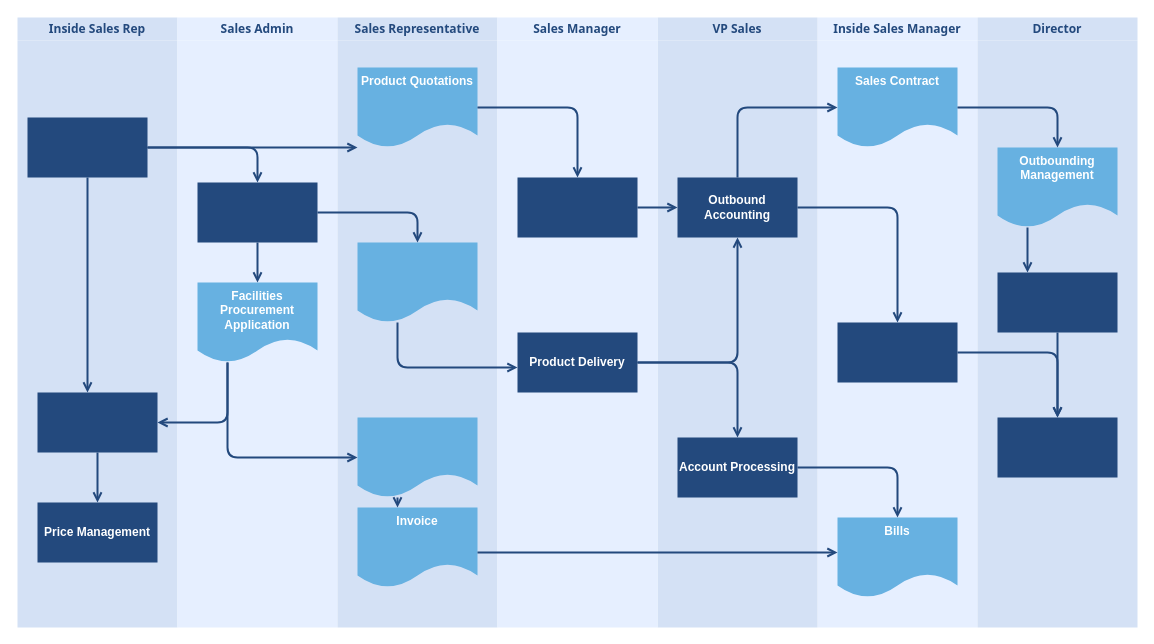
This 1154x644 diagram has some shape labels left out. Each missing label, with the centre of its shape:
"Cost Allocation" belongs at point (897, 352).
"Credit Management" belongs at point (97, 422).
"Customer Management" belongs at point (87, 147).
"Inventory Control" belongs at point (577, 207).
"Long Term Strategy" belongs at point (1057, 447).
"Material Requirements Planning Operation" belongs at point (257, 212).
"Orders" belongs at point (417, 282).
"Product Delivery Notification" belongs at point (417, 457).
"Resources Allocation" belongs at point (1057, 302).
